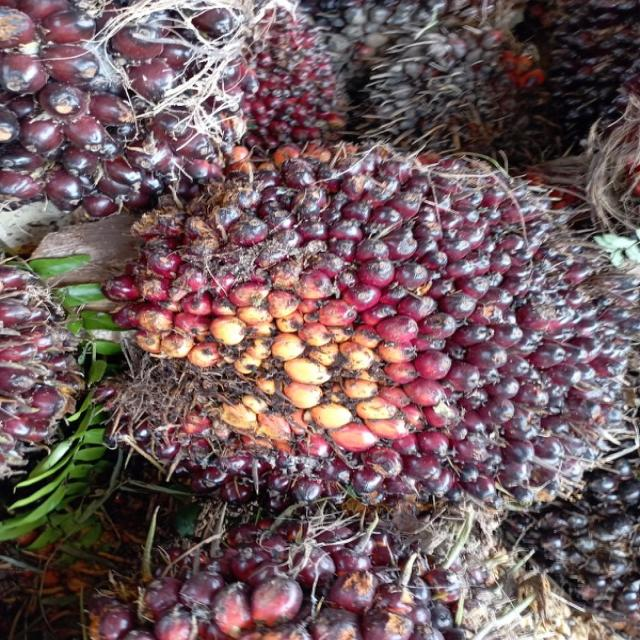fraksi 1: (94, 132, 624, 515)
